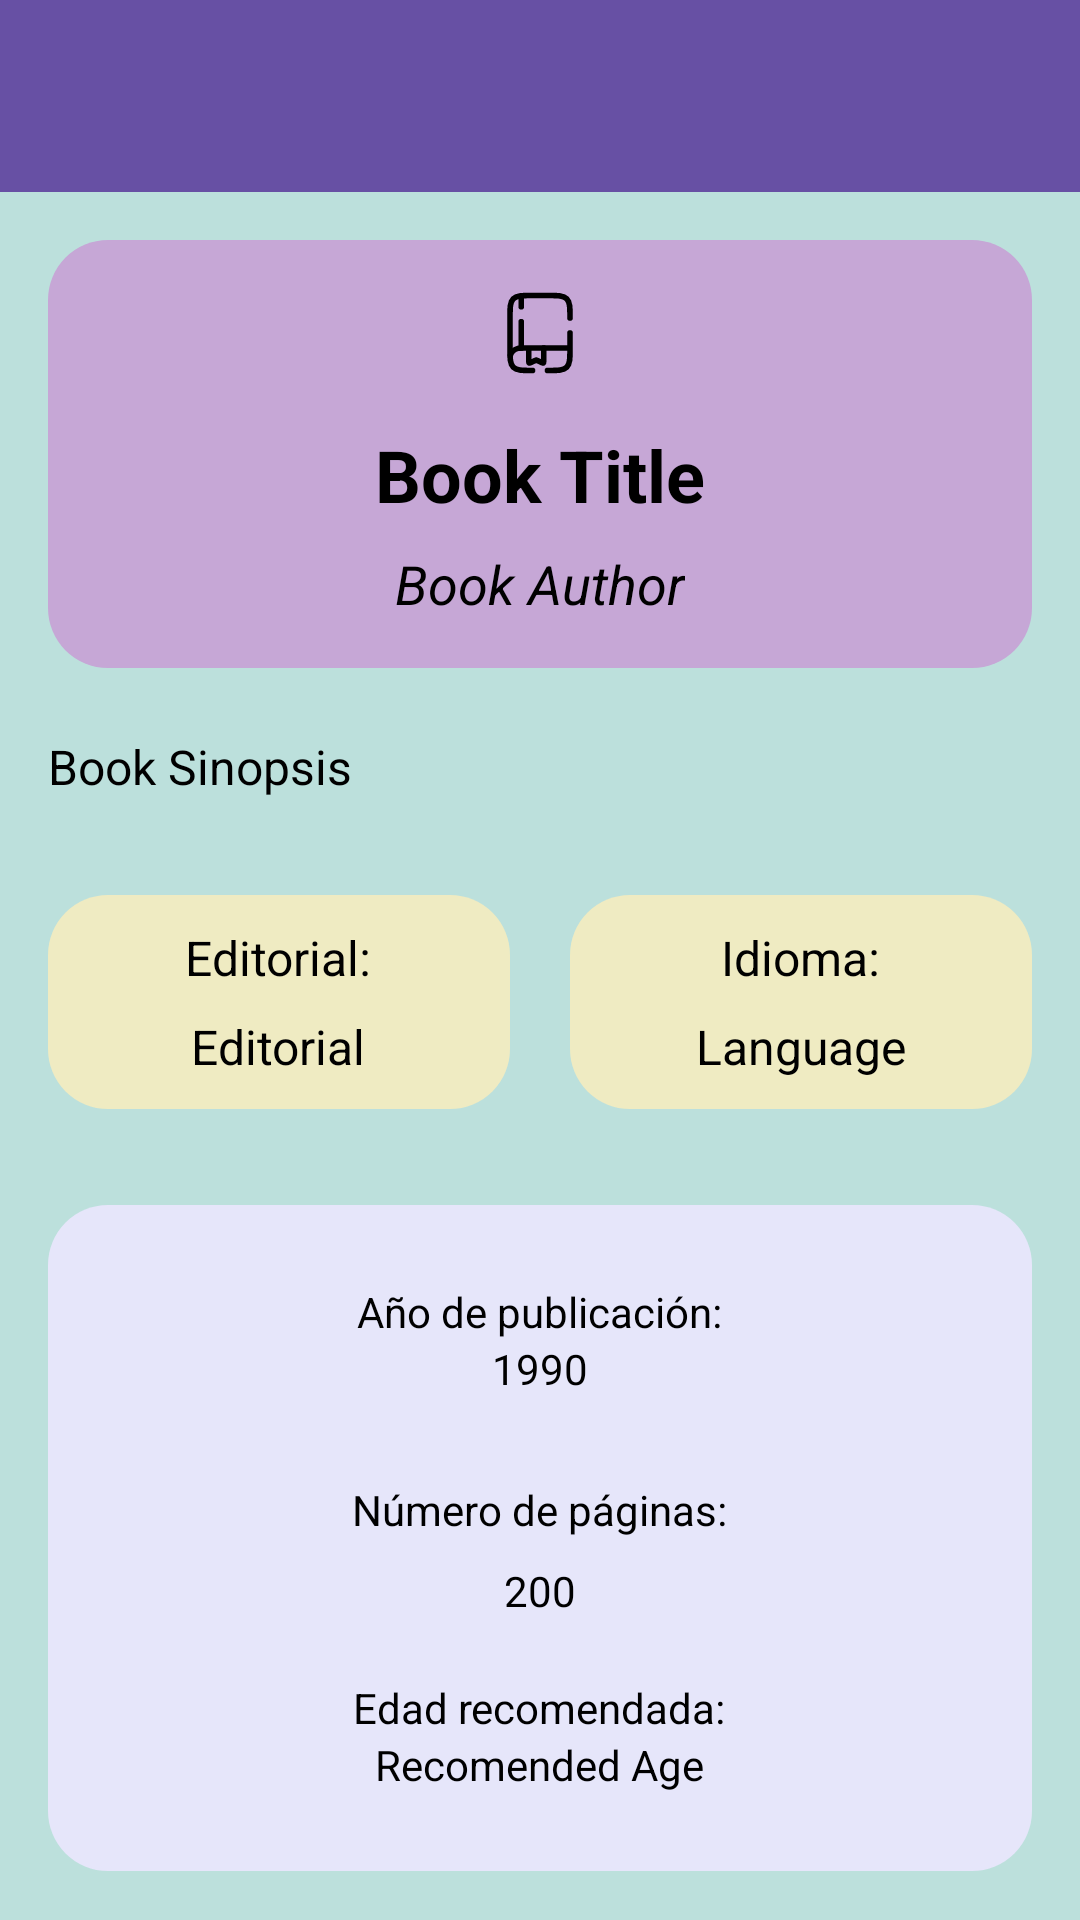

Locate icon controls on the screen. Image size 1080w x 1920h, boxes as (x1, y1, x2, y2).
books: (507, 292, 573, 374)
